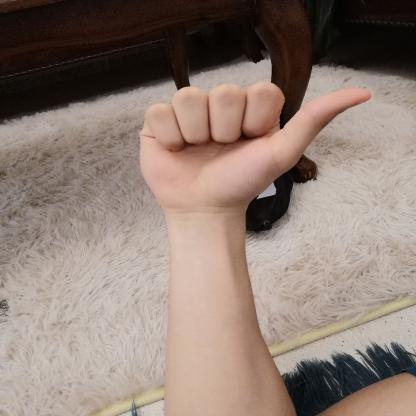DAD: (124, 72, 390, 226)
